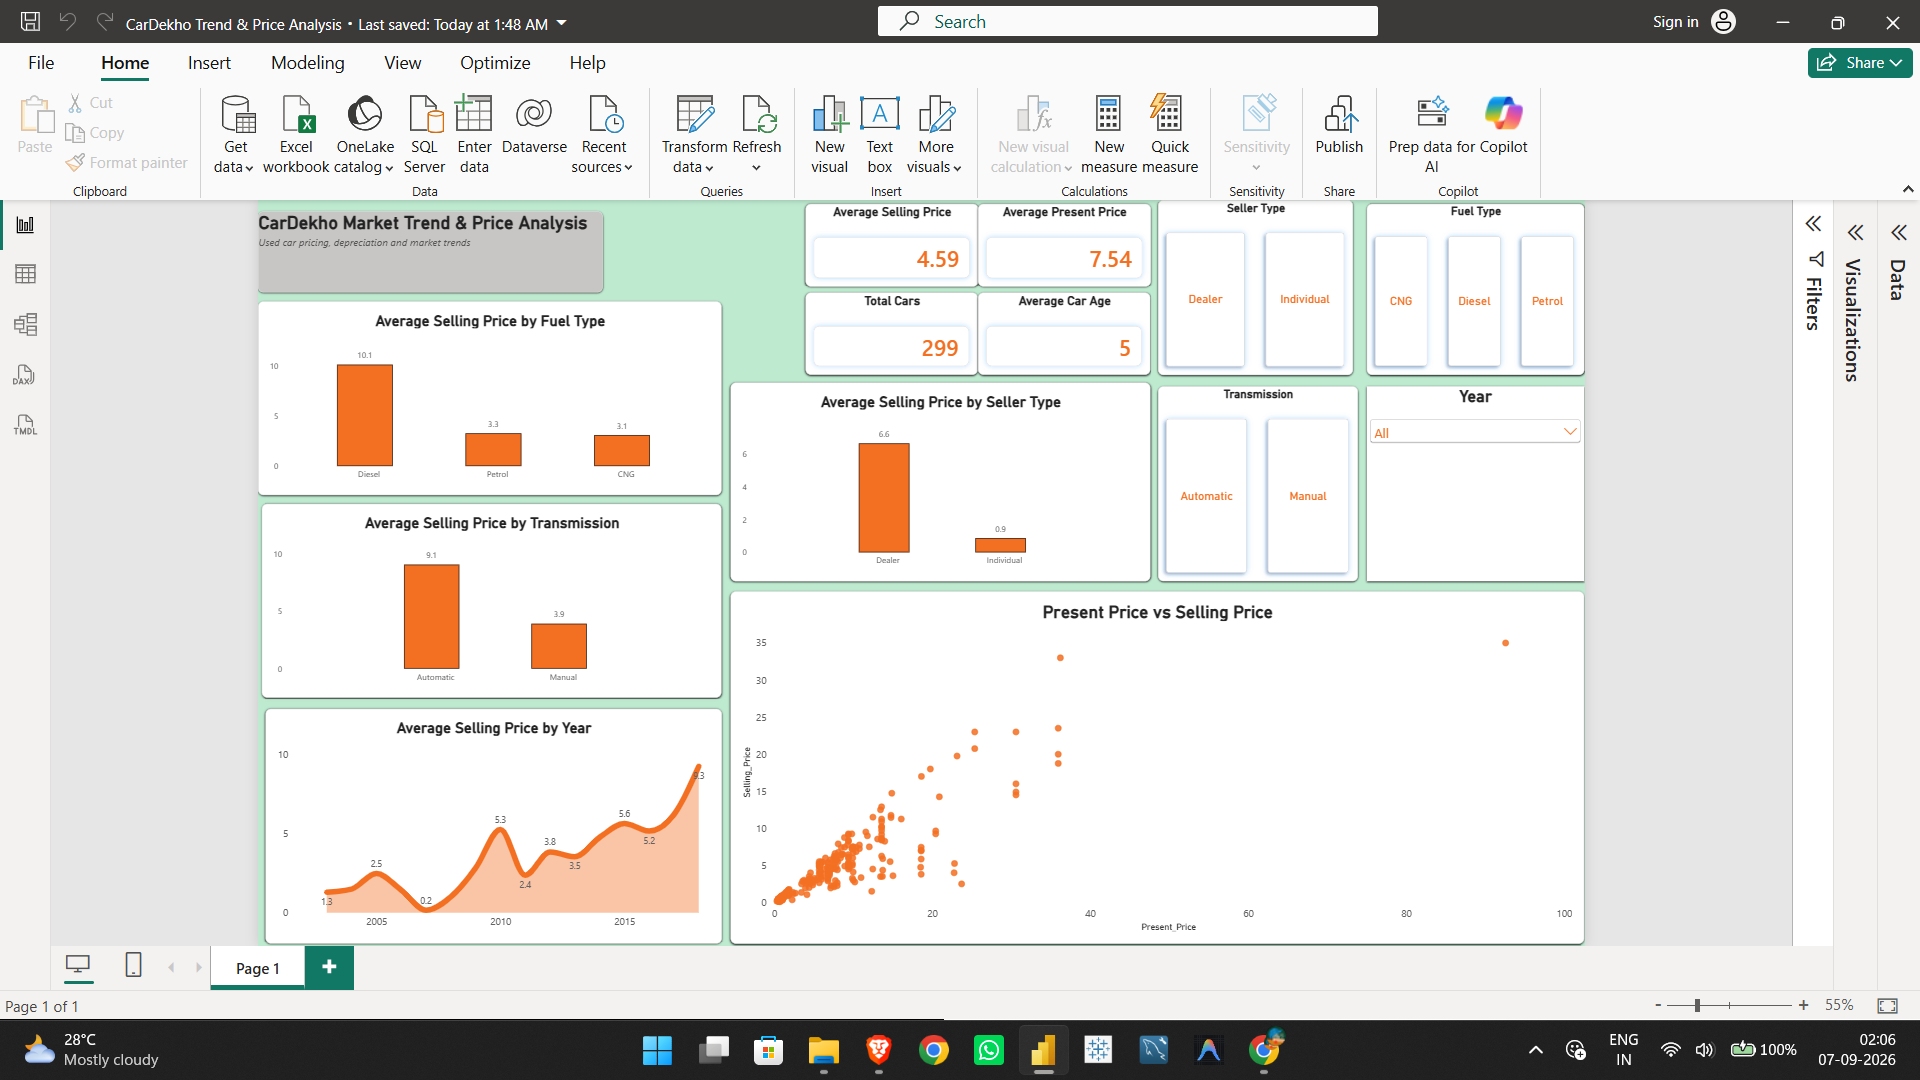

This screenshot's page, from the dashboard's own definition file:
{"tool":"powerbi","page":{"name":"Page 1","canvas":[1920,1080],"ordinal":0},"visuals":[{"type":"cardVisual","title":"Average Selling Price","fields":{"Data":["Avg(Car_Dekho_Cleaned.Selling_Price)"]},"box":[792.6,5.4,250,120],"z":0},{"type":"cardVisual","title":"Average Present Price","fields":{"Data":["Avg(Car_Dekho_Cleaned.Present_Price)"]},"box":[1042.4,5.4,250,120],"z":1000},{"type":"cardVisual","title":"Total Cars","fields":{"Data":["CountNonNull(Car_Dekho_Cleaned.Car_Name)"]},"box":[792.6,133.9,249.7,119.4],"z":2000},{"type":"cardVisual","title":"Average Car Age","fields":{"Data":["Avg(Car_Dekho_Cleaned.Car_Age)"]},"box":[1042.4,133.9,249.7,119.4],"z":3000},{"type":"clusteredColumnChart","title":"Average Selling Price by Fuel Type ","fields":{"Category":["Car_Dekho_Cleaned.Fuel_Type"],"Y":["Avg(Car_Dekho_Cleaned.Selling_Price)"]},"box":[0,146.6,671.4,280.5],"z":4000},{"type":"clusteredColumnChart","title":"Average Selling Price by Seller Type","fields":{"Category":["Car_Dekho_Cleaned.Seller_Type"],"Y":["Avg(Car_Dekho_Cleaned.Selling_Price)"]},"box":[684.1,264.2,608,287.7],"z":5000},{"type":"clusteredColumnChart","title":"Average Selling Price by Transmission","fields":{"Category":["Car_Dekho_Cleaned.Transmission"],"Y":["Avg(Car_Dekho_Cleaned.Selling_Price)"]},"box":[5.4,439.7,666,280.5],"z":6000},{"type":"lineChart","title":"Average Selling Price by Year","fields":{"Category":["Car_Dekho_Cleaned.Year"],"Y":["Avg(Car_Dekho_Cleaned.Selling_Price)"]},"box":[10.9,736.5,660.5,340.2],"z":7000},{"type":"advancedSlicerVisual","title":"Fuel Type","fields":{"Values":["Car_Dekho_Cleaned.Fuel_Type"]},"box":[1605.2,5.4,314.9,247.9],"z":8000},{"type":"advancedSlicerVisual","title":"Seller Type","fields":{"Values":["Car_Dekho_Cleaned.Seller_Type"]},"box":[1303,0,282.3,253.4],"z":9000},{"type":"advancedSlicerVisual","title":"Transmission","fields":{"Values":["Car_Dekho_Cleaned.Transmission"]},"box":[1303,269.6,289.5,282.3],"z":10000},{"type":"scatterChart","title":"Present Price vs Selling Price","fields":{"X":["Car_Dekho_Cleaned.Present_Price"],"Y":["Car_Dekho_Cleaned.Selling_Price"]},"box":[684.1,566.4,1236,510.3],"z":12000},{"type":"textbox","title":"  CarDekho Market Trend & Price Analysis","box":[0,16.3,499.5,117.6],"z":13000},{"type":"slicer","title":"Year","fields":{"Values":["Car_Dekho_Cleaned.Year"]},"box":[1605.2,269.6,314.9,282.3],"z":13001}]}

Visuals, with their boxes on the page's 1920x1080 design canvas (x1, y1, x2, y2). These are canvas units, not pixel positions in the 1920x1080 screenshot, which may show the page scaled, cropped or inside an application window:
"Average Selling Price" cardVisual: 793,5,1043,125
"Average Present Price" cardVisual: 1042,5,1292,125
"Total Cars" cardVisual: 793,134,1042,253
"Average Car Age" cardVisual: 1042,134,1292,253
"Average Selling Price by Fuel Type " clusteredColumnChart: 0,147,671,427
"Average Selling Price by Seller Type" clusteredColumnChart: 684,264,1292,552
"Average Selling Price by Transmission" clusteredColumnChart: 5,440,671,720
"Average Selling Price by Year" lineChart: 11,736,671,1077
"Fuel Type" advancedSlicerVisual: 1605,5,1920,253
"Seller Type" advancedSlicerVisual: 1303,0,1585,253
"Transmission" advancedSlicerVisual: 1303,270,1592,552
"Present Price vs Selling Price" scatterChart: 684,566,1920,1077
"  CarDekho Market Trend & Price Analysis" textbox: 0,16,500,134
"Year" slicer: 1605,270,1920,552
